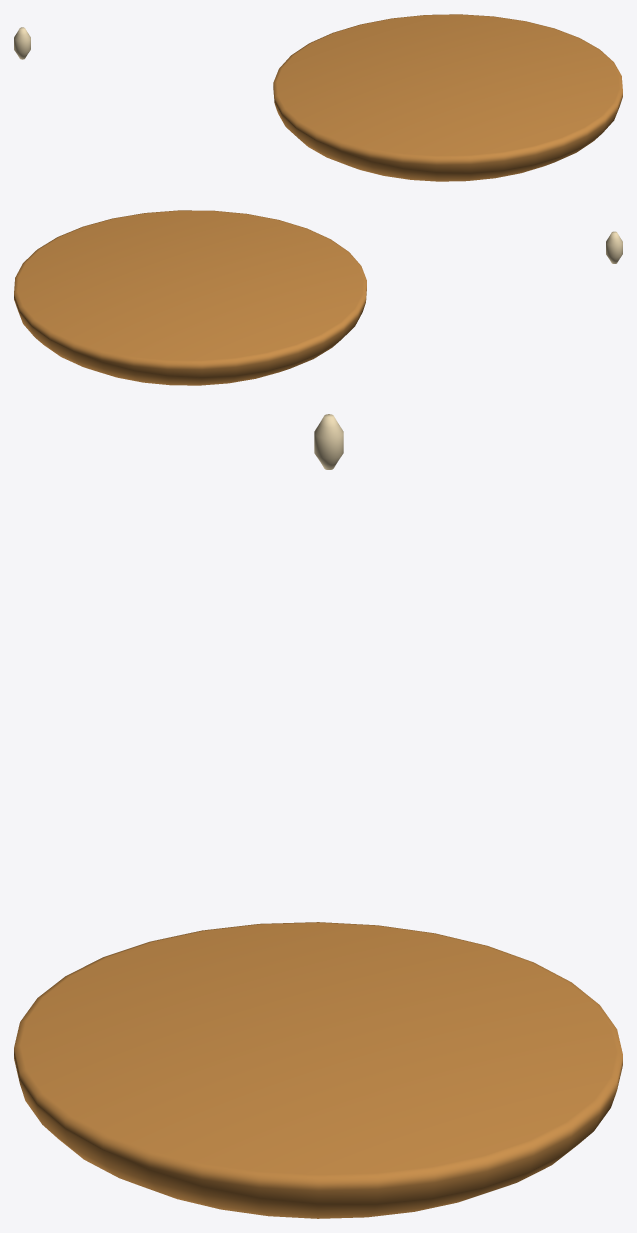
Rendered from panabajo.glb.
3 views of the same model, one above another, from view 1: azimuth 30°, elevation 25°; view 2: azimuth 150°, elevation 25°; view 3: azimuth 270°, elevation 25° (orthographic). The views are drawn at different scales.
Parts seen in each view (by area): view 1: PAN_INF, SEMILLA; view 2: PAN_INF, SEMILLA; view 3: PAN_INF, SEMILLA.
Boxes of the visible parts, bbox=[...] form: PAN_INF: bbox=[273, 14, 622, 181]; SEMILLA: bbox=[14, 27, 30, 59]; PAN_INF: bbox=[14, 210, 366, 385]; SEMILLA: bbox=[606, 231, 622, 263]; PAN_INF: bbox=[14, 922, 622, 1218]; SEMILLA: bbox=[314, 414, 343, 469].
Bounding box in the file's own units: 11.84 × 4.21 × 6.18.
